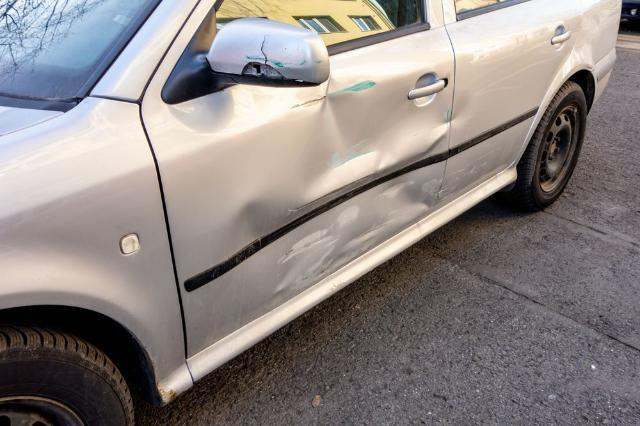crack: (260, 33, 270, 64)
dent: (239, 79, 445, 290), (452, 91, 471, 129)
scratch: (446, 151, 500, 193)
